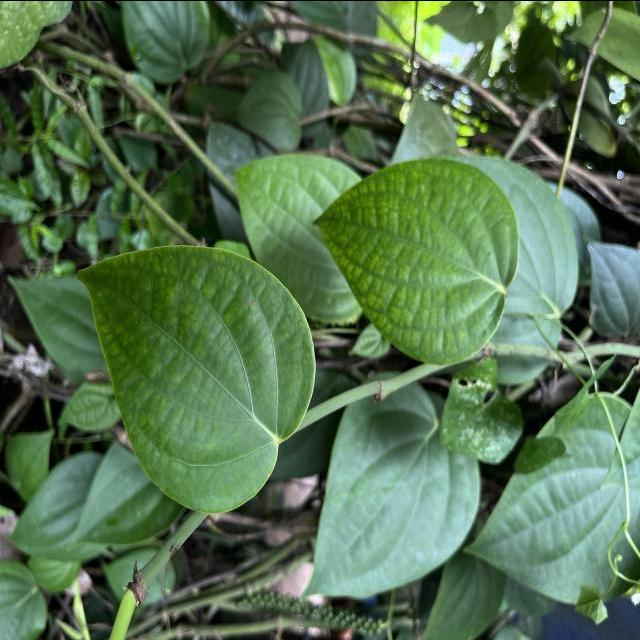Piper nigrum: (73, 240, 319, 516), (310, 156, 520, 368)
